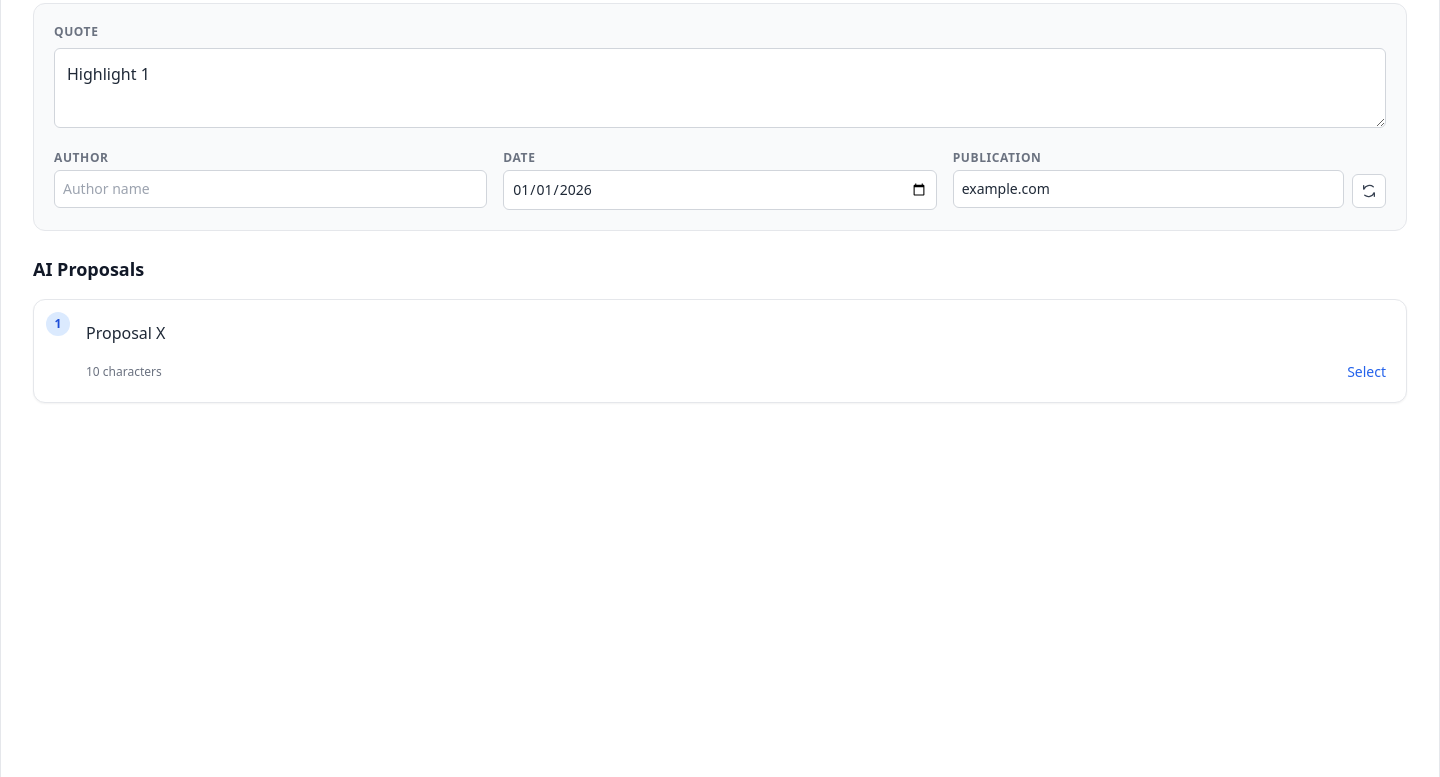
it: PostPage — AI proposals panel › carousel resets to proposals panel when navigating to next bookmark
(page scrolled)
# Switch to images panel by selecting a proposal
What coordinates should you click on to do the following:
click the button with aria-label "select this proposal"
I would click on:
 (1367, 372)
Its box is x1=1347 y1=362 x2=1386 y2=382.
(page scrolled)
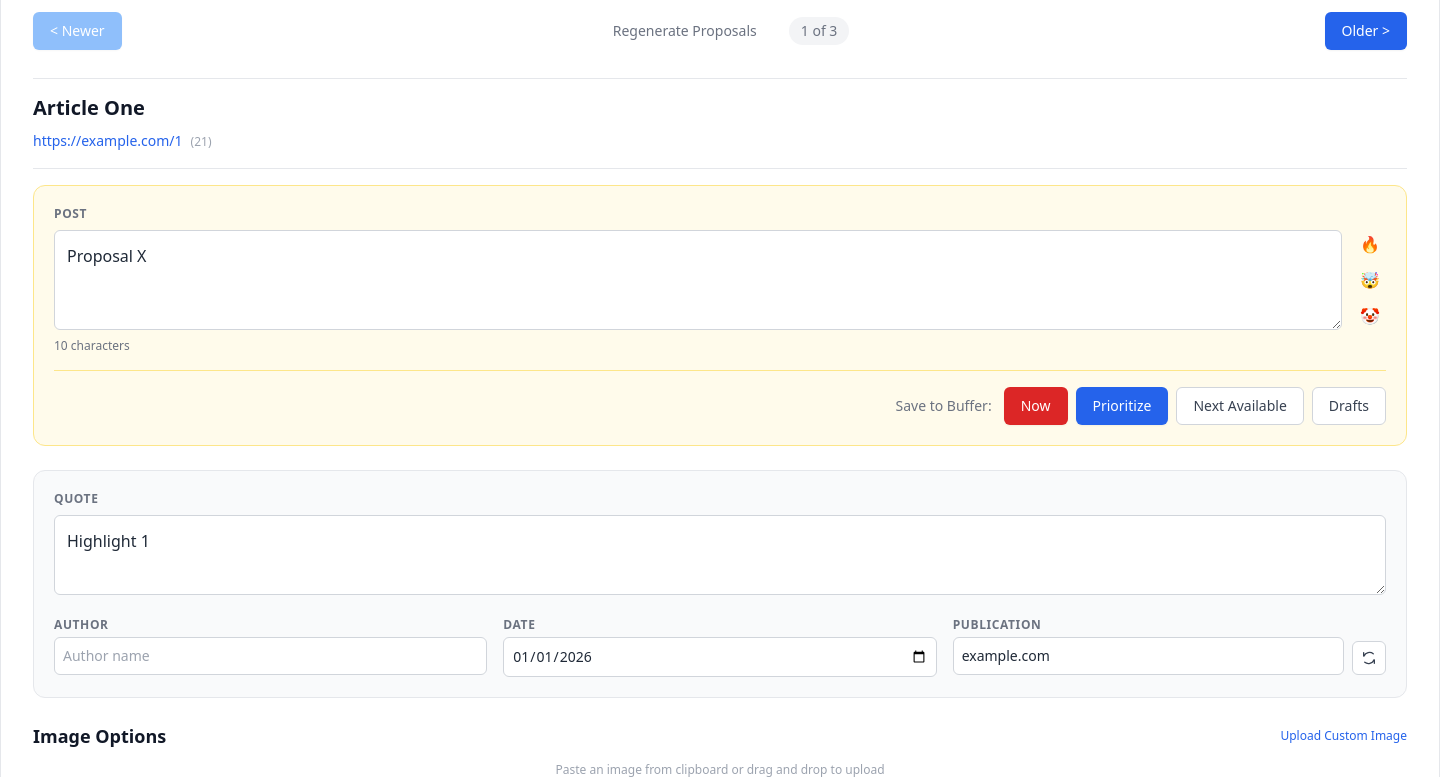
# Navigate to next bookmark
What coordinates should you click on to do the following:
click the button "Older >"
I would click on:
 (1366, 31)
Its box is x1=1324 y1=12 x2=1407 y2=50.
(page scrolled)
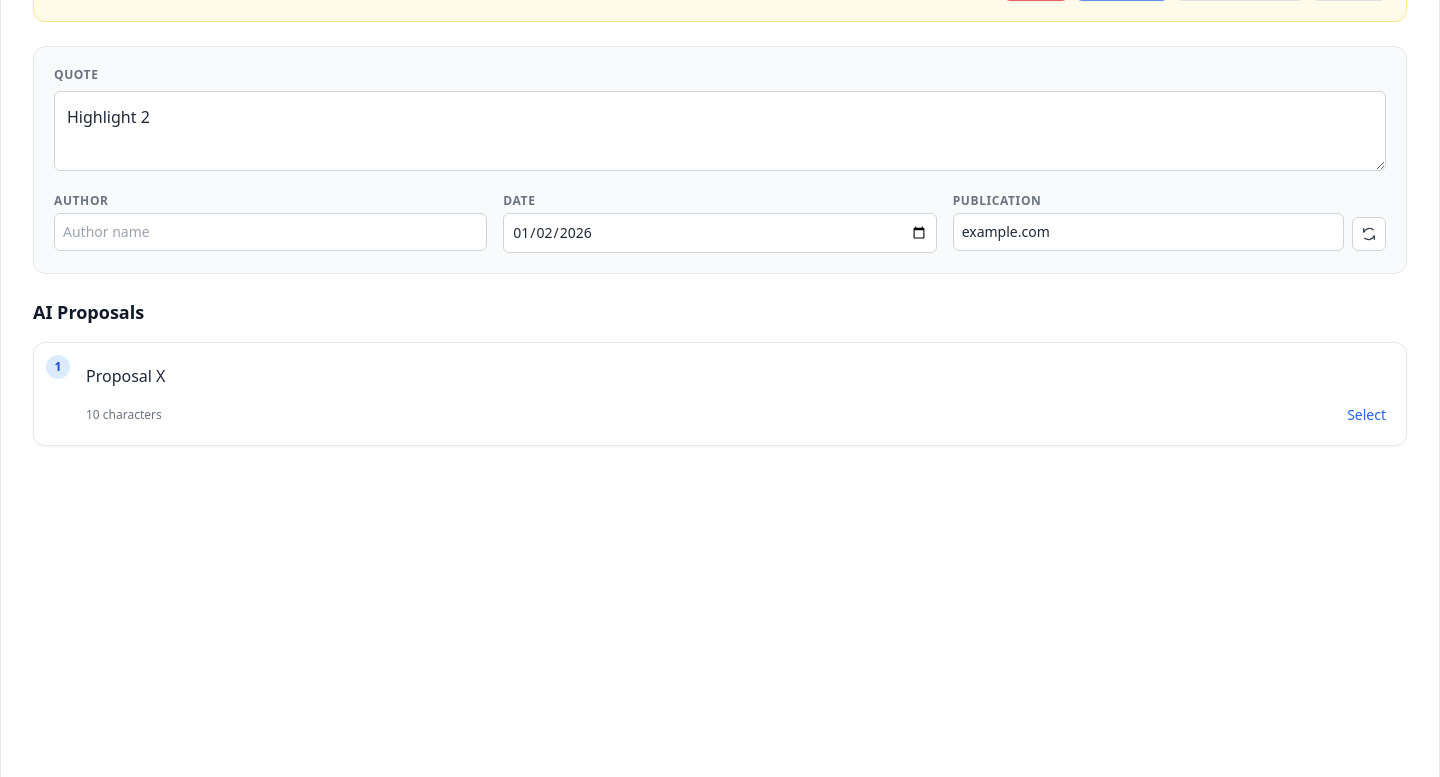
Expected: the element with test id "ai-proposals-panel" is shown, x1=33 y1=298 x2=1407 y2=446
